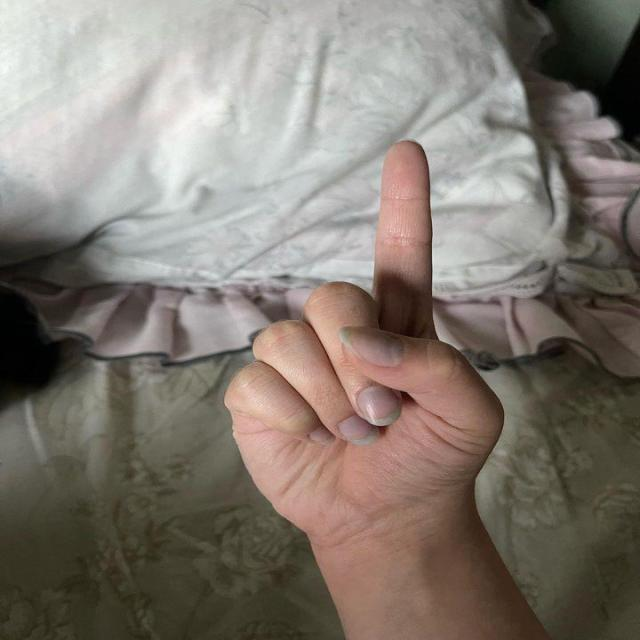D: (216, 136, 505, 538)
